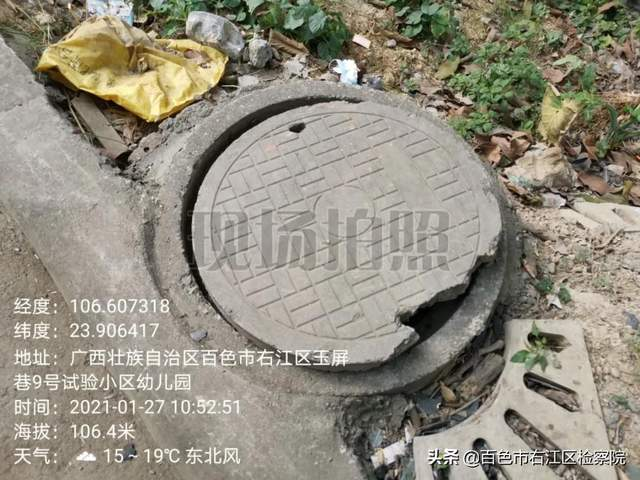broke: (128, 70, 535, 409)
